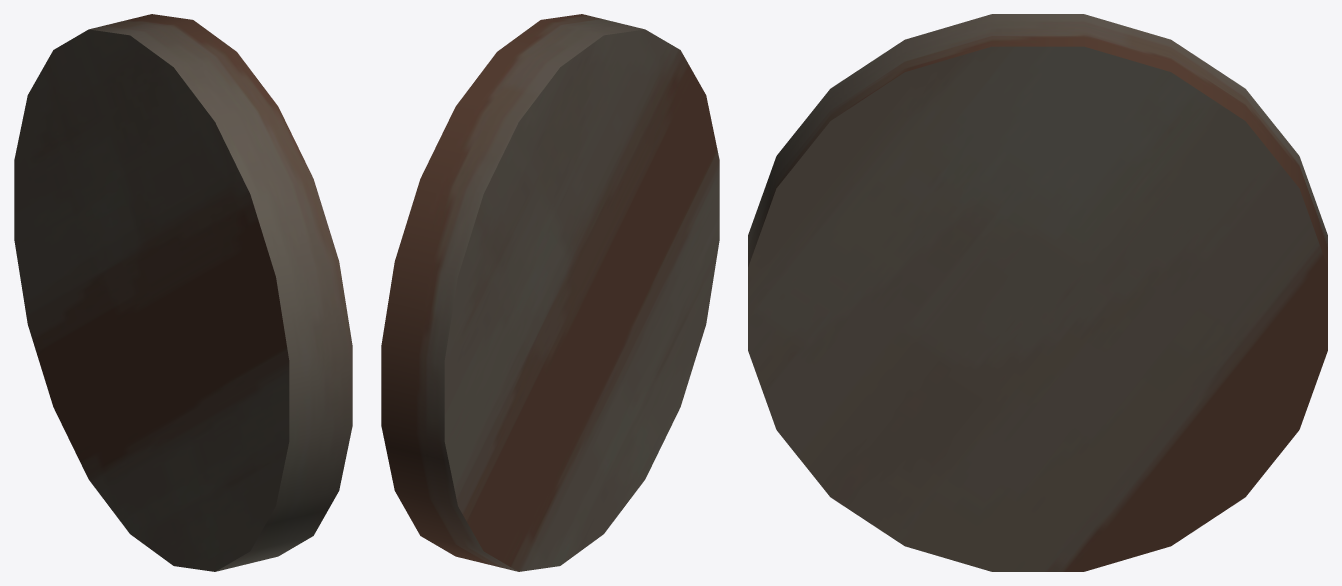
File: glowingSeperator.fbx
3 views of the same model, side by side, from view 1: azimuth 30°, elevation 25°; view 2: azimuth 150°, elevation 25°; view 3: azimuth 270°, elevation 25° (orthographic). The views are drawn at different scales.
Parts seen in each view (by area): view 1: pCylinder92; view 2: pCylinder92; view 3: pCylinder92.
Part boxes in pixels (box(x1,y1,x2,y2)): pCylinder92: box(14, 14, 352, 571); pCylinder92: box(381, 14, 719, 571); pCylinder92: box(748, 14, 1327, 571).
Bounding box in the file's own units: 11.9 × 89.69 × 89.69.
